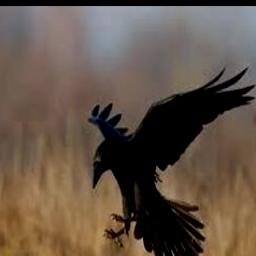Crow: (88, 64, 255, 256)
